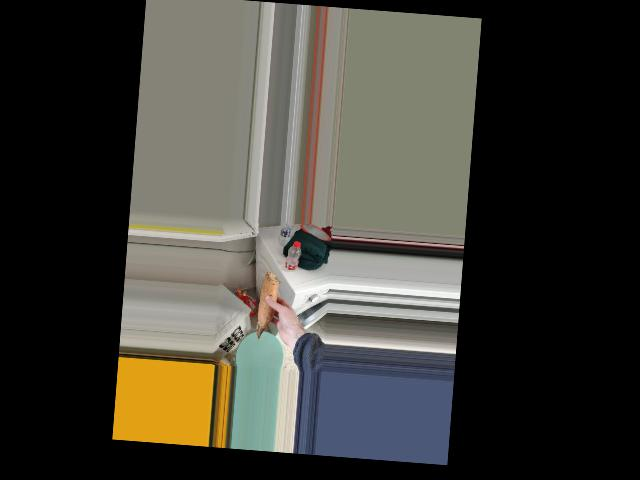sweet_potato: (256, 275, 279, 339)
